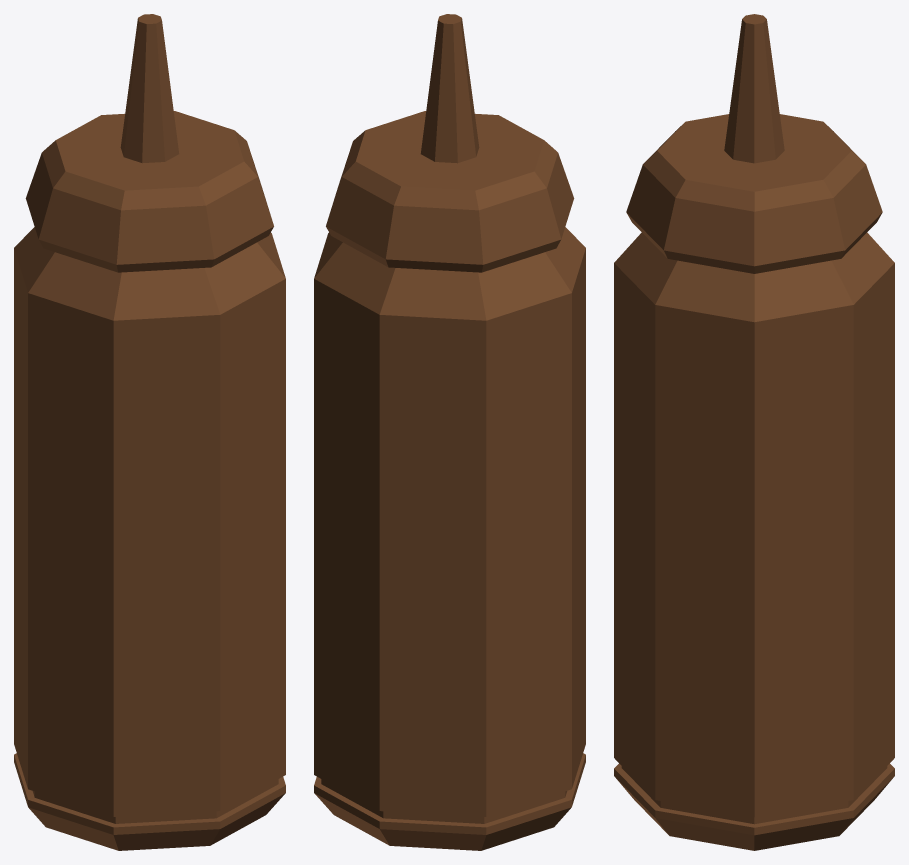
Rendered from cc0-ketchup-bottle-lod0.glb.
3 renders of one model, left to right at view 1: azimuth 30°, elevation 25°; view 2: azimuth 150°, elevation 25°; view 3: azimuth 270°, elevation 25°, orthographic.
Visible parts, largest first — view 1: part_0; view 2: part_0; view 3: part_0.
Part boxes in pixels (left/top/right/bottom): part_0: left=14, top=14, right=285, bottom=850; part_0: left=314, top=14, right=585, bottom=850; part_0: left=614, top=14, right=894, bottom=850.
Bounding box in the file's own units: 0.4996 × 1.53 × 0.4996.
